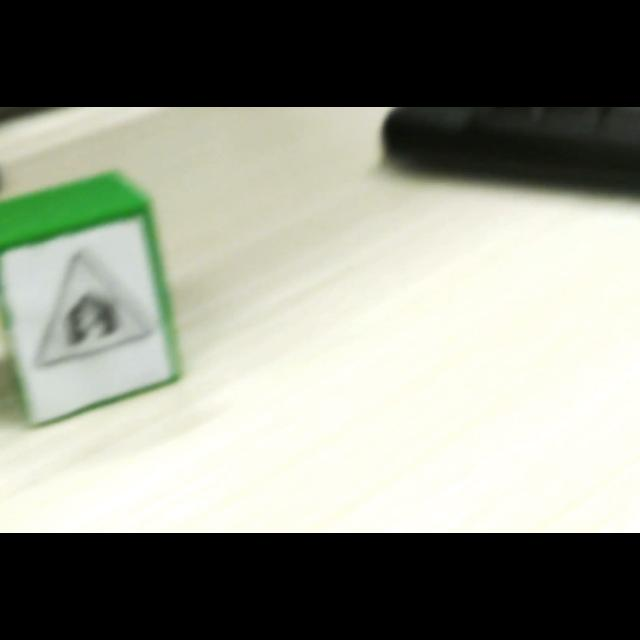Earthquake: (36, 248, 152, 368), (36, 250, 150, 367)
